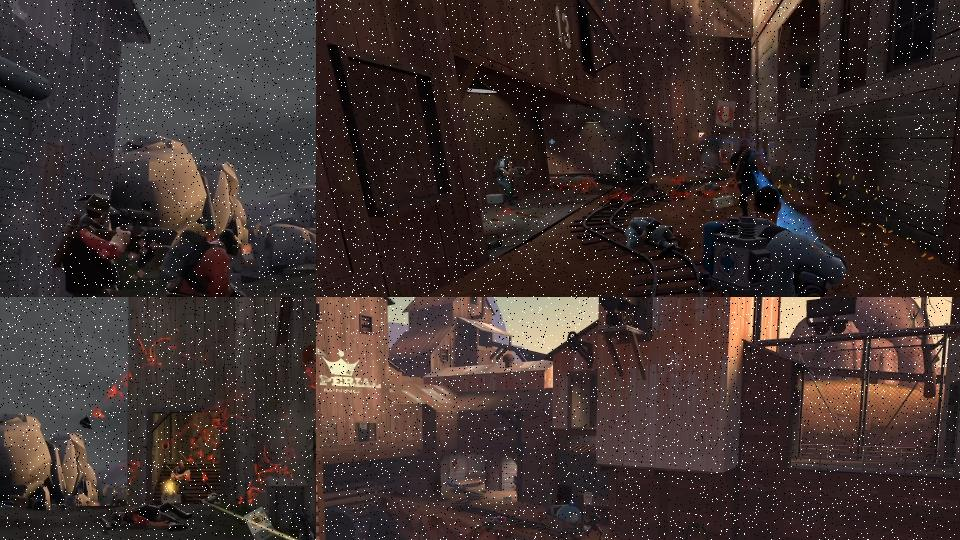Enemy: (695, 184, 848, 297), (51, 193, 155, 297), (134, 217, 256, 297), (729, 140, 783, 217), (624, 215, 685, 259), (112, 503, 194, 531), (493, 153, 534, 202), (170, 461, 190, 502), (583, 509, 605, 540)
